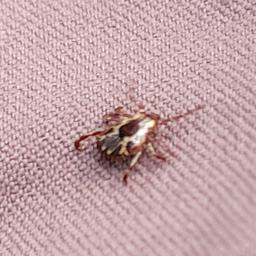Dermacentor variabilis: (72, 101, 205, 184)
